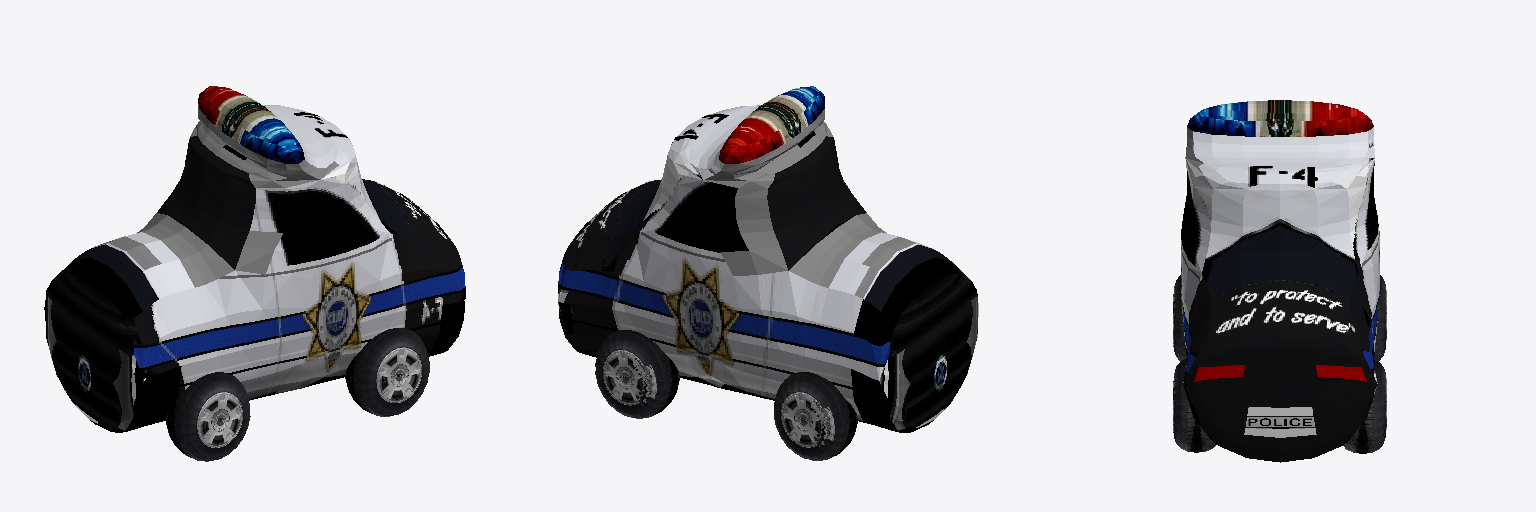
The picture shows the model from 3 angles: view 1: azimuth 30°, elevation 25°; view 2: azimuth 150°, elevation 25°; view 3: azimuth 270°, elevation 25°; orthographic projection.
Visible parts, largest first — view 1: Box, Cylinder1, Cylinder; view 2: Box, Cylinder3, Cylinder2; view 3: Box, Cylinder, Cylinder3, Cylinder1, Cylinder2.
Boxes of the visible parts, x1=… form: Box: x1=44, y1=86, x2=465, y2=432; Cylinder1: x1=166, y1=372, x2=250, y2=461; Cylinder: x1=345, y1=328, x2=429, y2=416; Box: x1=558, y1=86, x2=978, y2=432; Cylinder3: x1=595, y1=330, x2=679, y2=418; Cylinder2: x1=774, y1=372, x2=857, y2=460; Box: x1=1181, y1=100, x2=1379, y2=462; Cylinder: x1=1173, y1=358, x2=1216, y2=452; Cylinder3: x1=1343, y1=360, x2=1386, y2=453; Cylinder1: x1=1173, y1=275, x2=1186, y2=360; Cylinder2: x1=1374, y1=275, x2=1386, y2=361.
Bounding box in the file's own units: 2 × 1.67 × 1.07.
Materials: 12 (8 with a texture image).